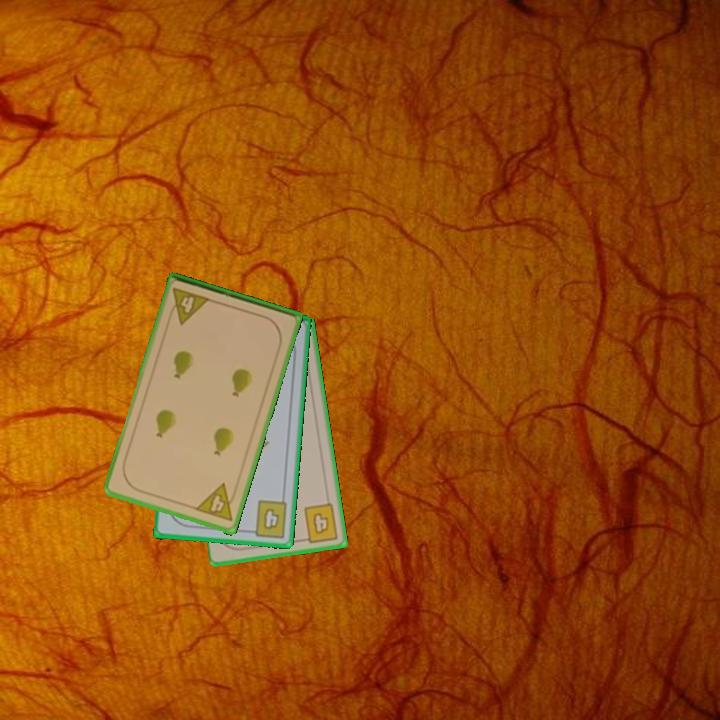4b: (244, 497, 290, 541), (298, 500, 341, 546)
4p: (191, 481, 240, 525), (164, 284, 213, 327)
